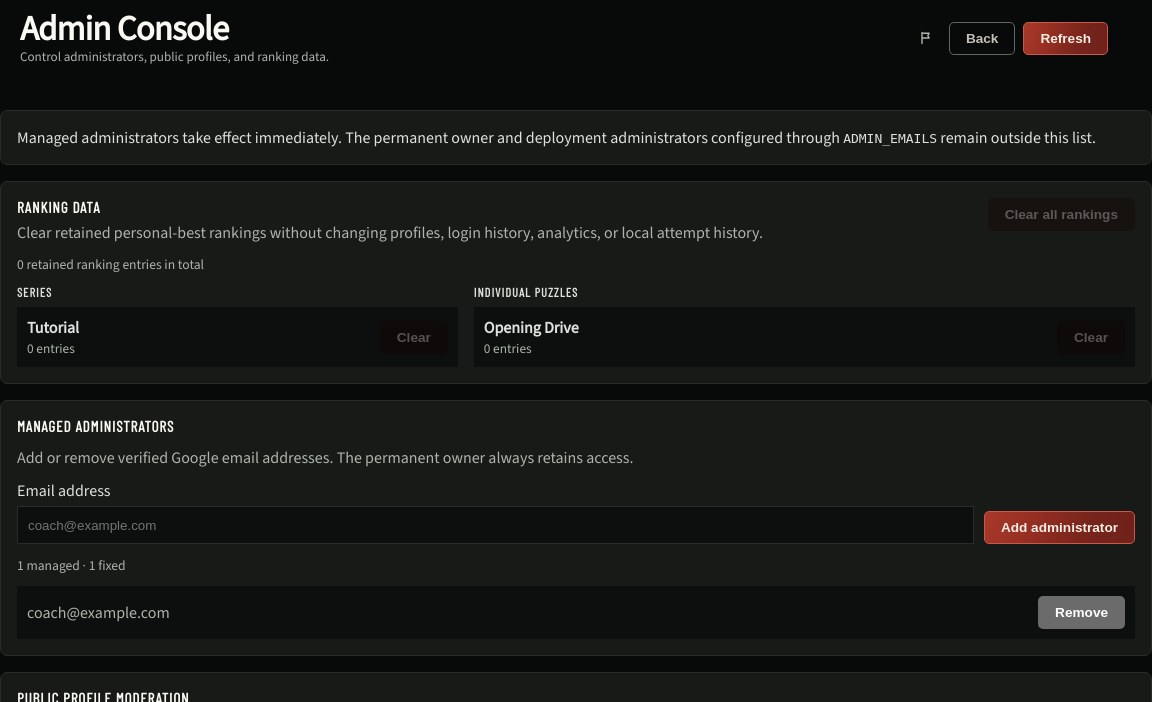
Test case: AdminConsole › adds, confirms removal, and renders managed access history
Expected: the text "coach@example.com" is shown, [27, 602, 170, 623]
In the field labelled "Email address": [495, 525] box [17, 506, 974, 544], type "assistant@example.com"
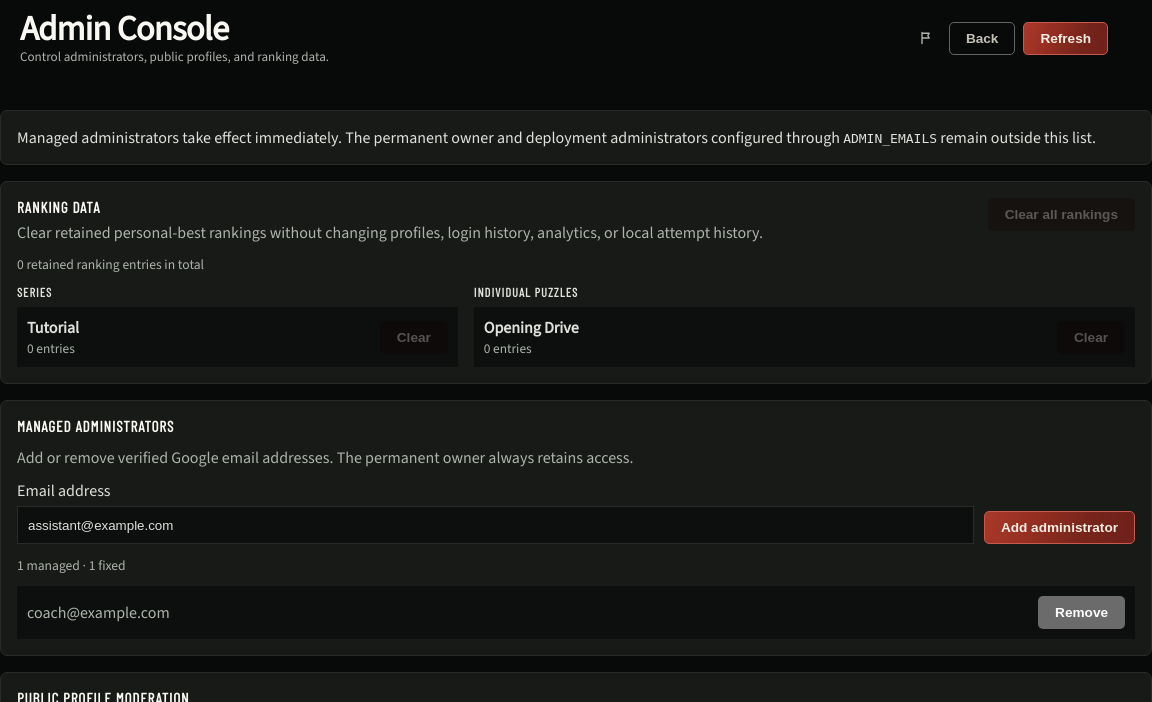
Click the button "Add administrator": [1059, 528] box [984, 511, 1135, 544]
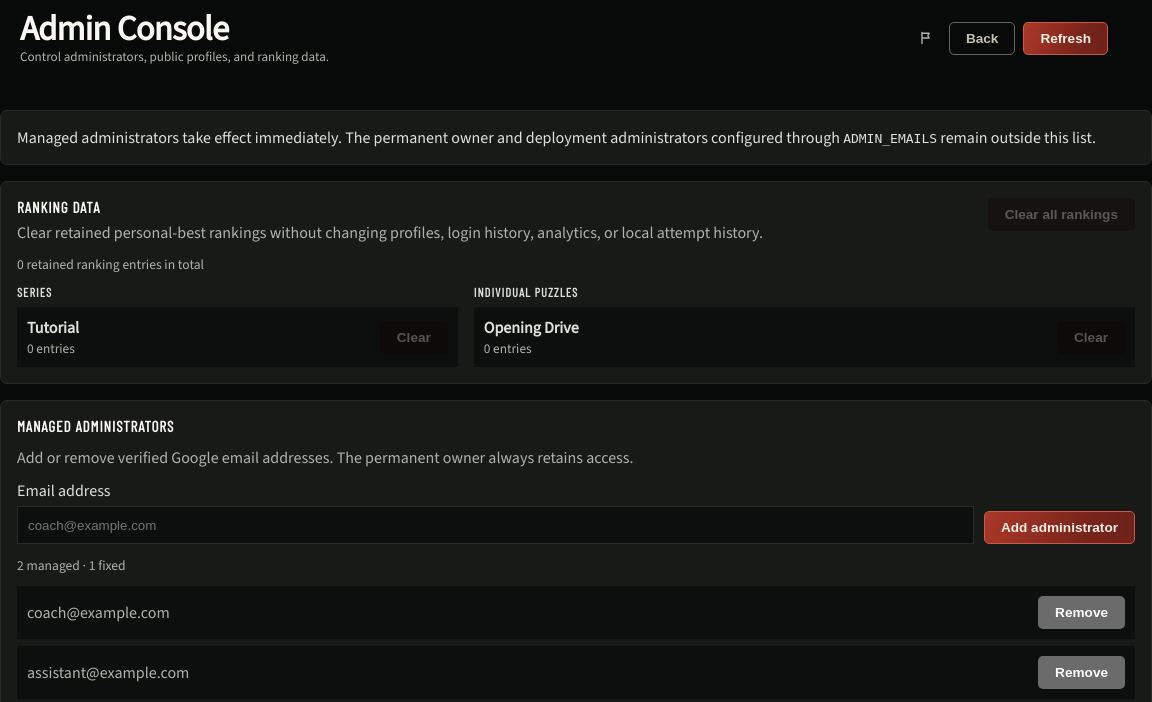
Result: the text "assistant@example.com" is shown at [27, 662, 189, 683]
Click the 2nd button "Remove": [1082, 672] box [1038, 656, 1125, 689]
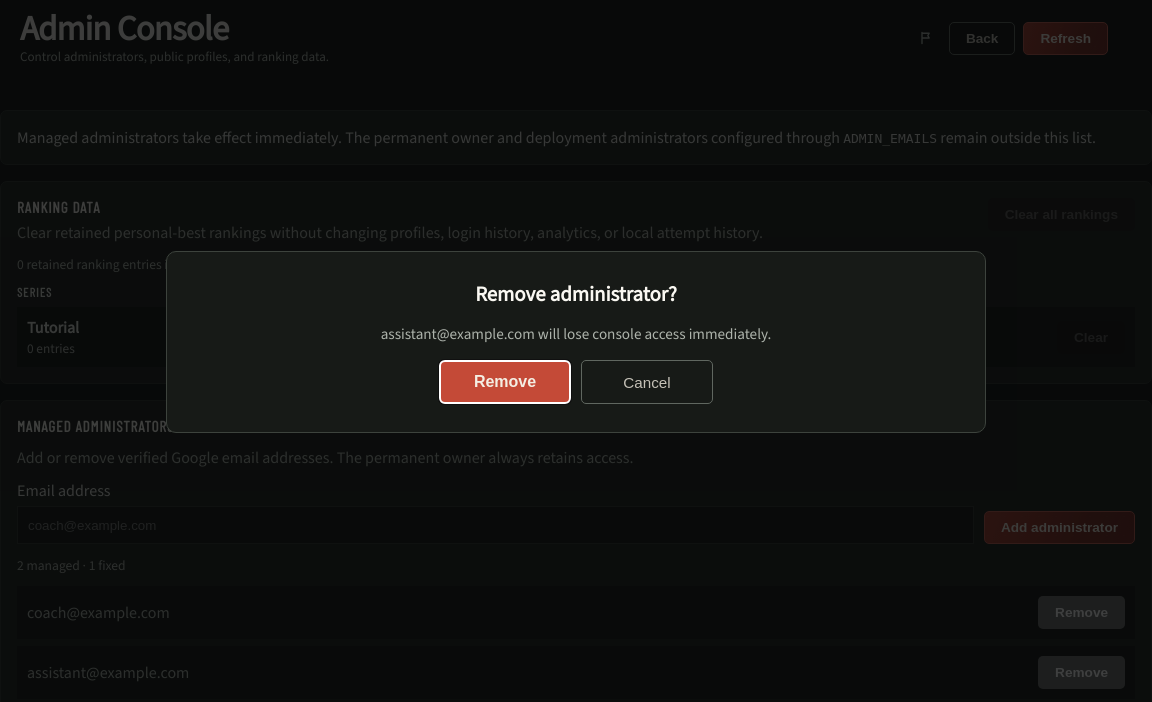
Result: the dialog is shown at [166, 251, 986, 433]
Click the button "Remove": [505, 382] box [439, 360, 571, 404]
(page scrolled)
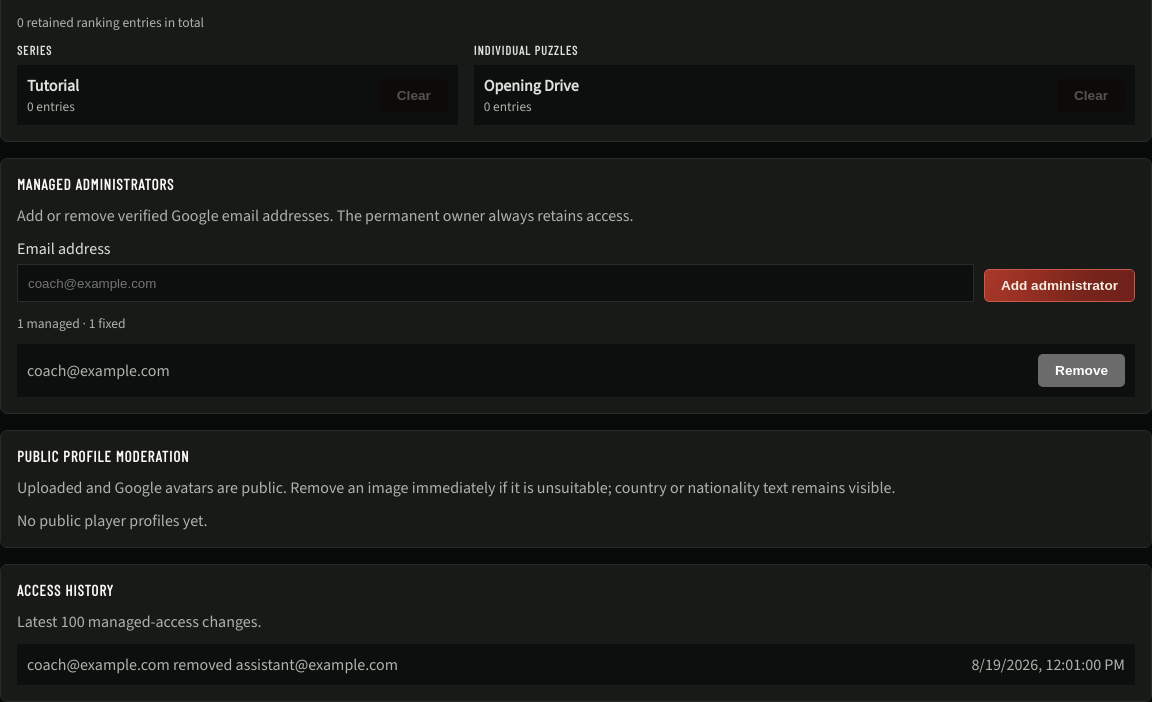
Result: the text "coach@example.com removed assistant@example.com" is shown at [27, 654, 398, 675]
